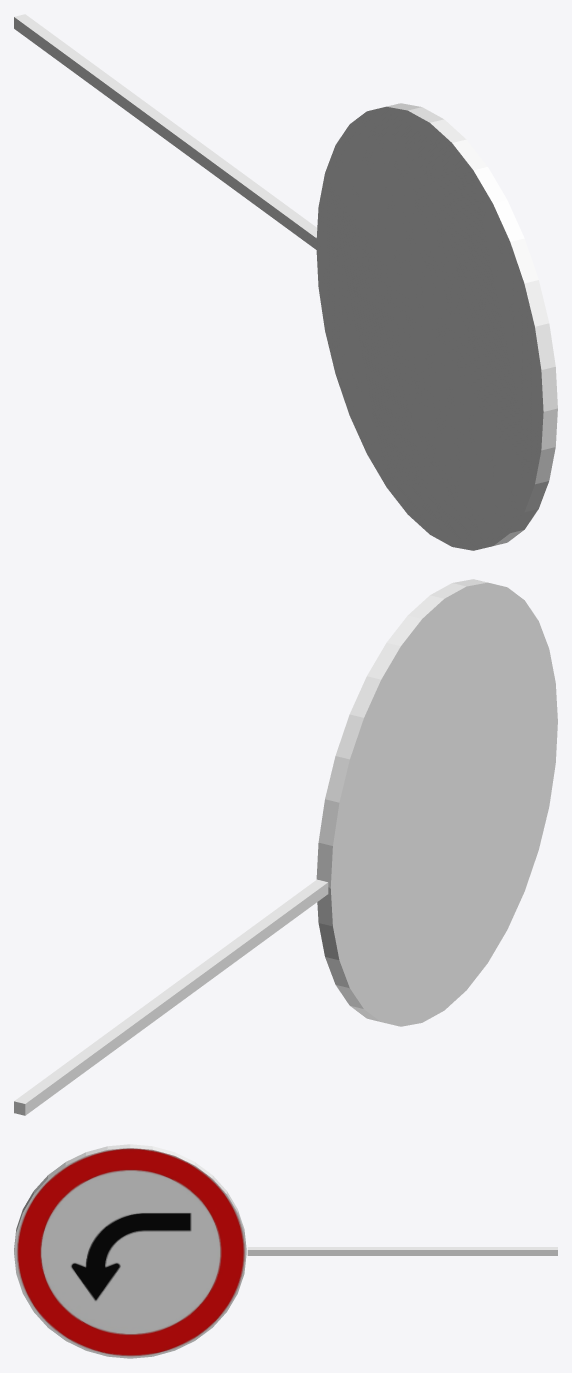
File: esquerda.obj
3 renders of one model, top to bottom at view 1: azimuth 30°, elevation 25°; view 2: azimuth 150°, elevation 25°; view 3: azimuth 270°, elevation 25°, orthographic. The views are drawn at different scales.
Visible parts, largest first — view 1: Placa_esquerda_esquerda; view 2: Placa_esquerda_esquerda; view 3: Placa_esquerda_esquerda.
Part boxes in pixels (x1,y1,x2,y2): Placa_esquerda_esquerda: (14,14,557,550); Placa_esquerda_esquerda: (14,579,557,1115); Placa_esquerda_esquerda: (14,1144,557,1358).
Bounding box in the file's own units: 0.011 × 0.3 × 0.7012.
Materials: 1 (1 with a texture image).
